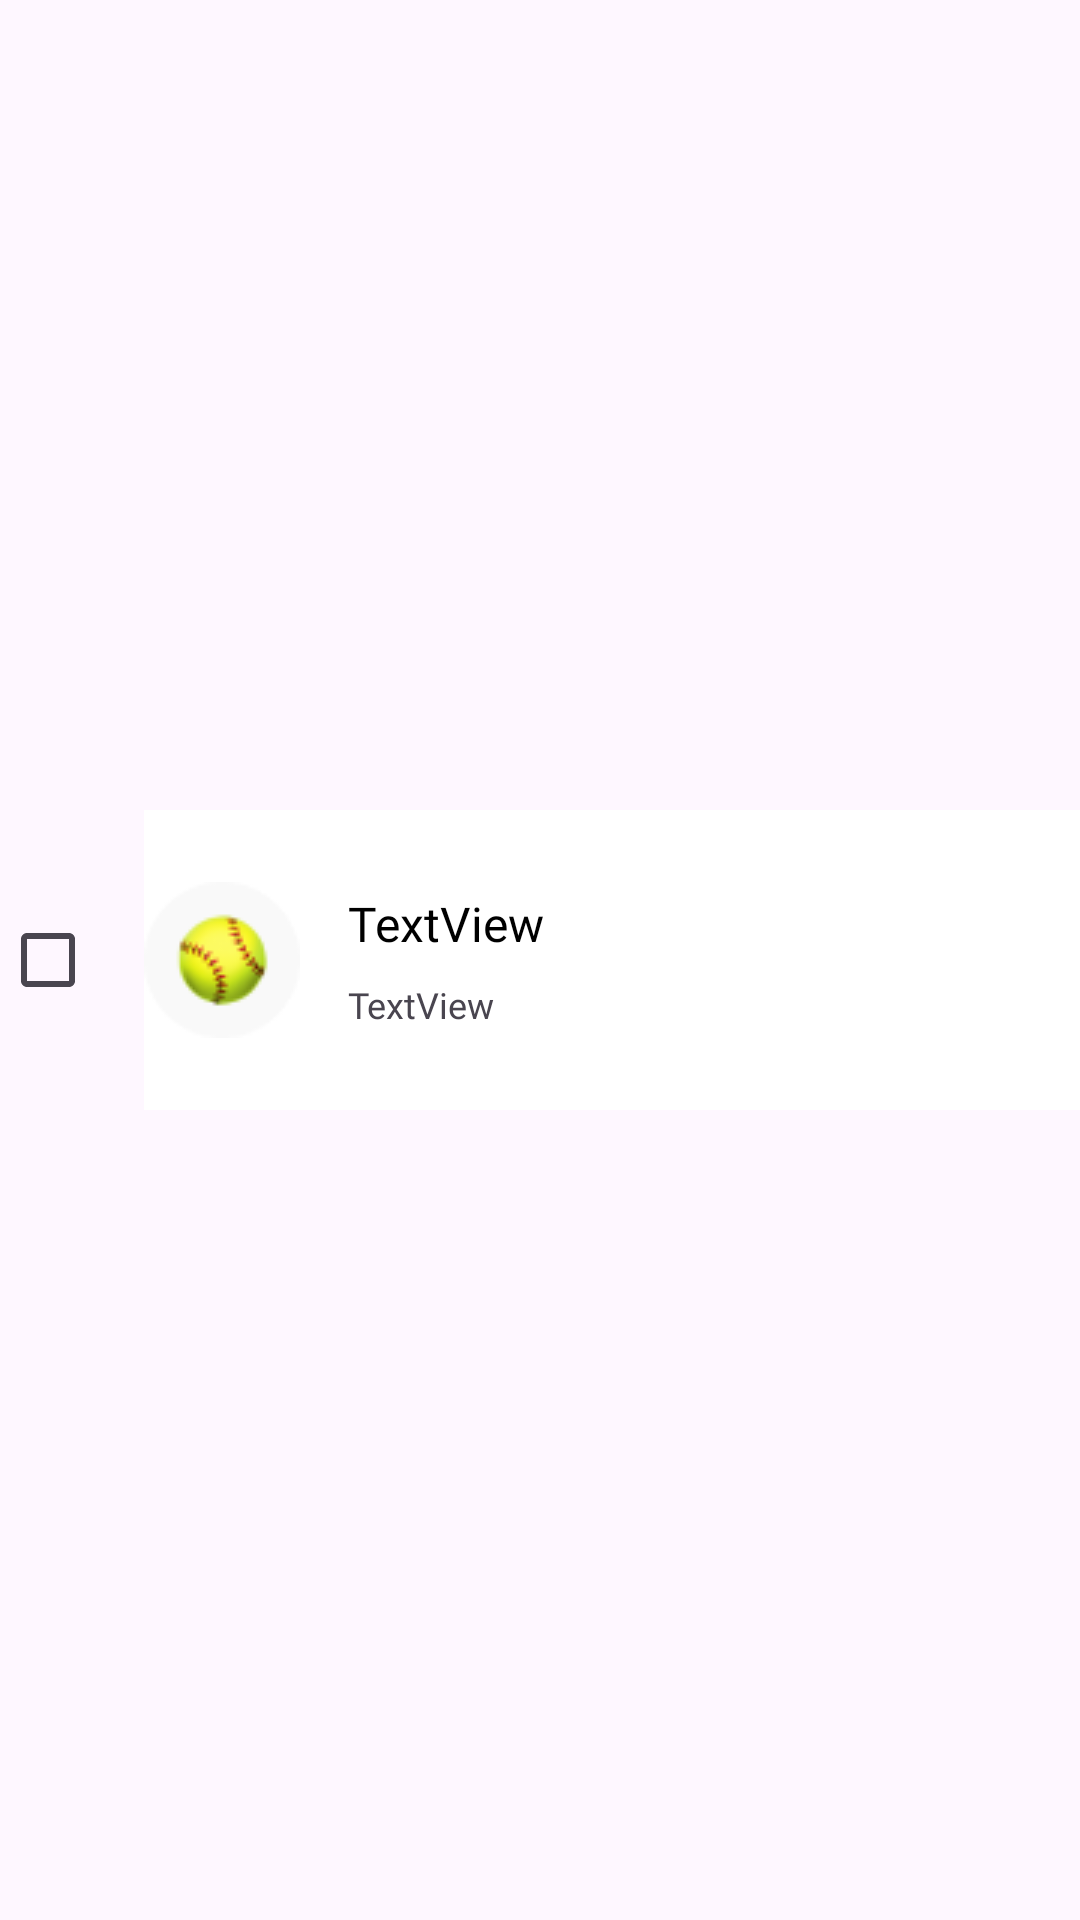

Icons on this 1080px x 1920px Android screen, each with its box as {"x1": x1, "y1": y1, "x2": x2, "y2": y2}:
emoji: {"x1": 177, "y1": 914, "x2": 268, "y2": 1006}
